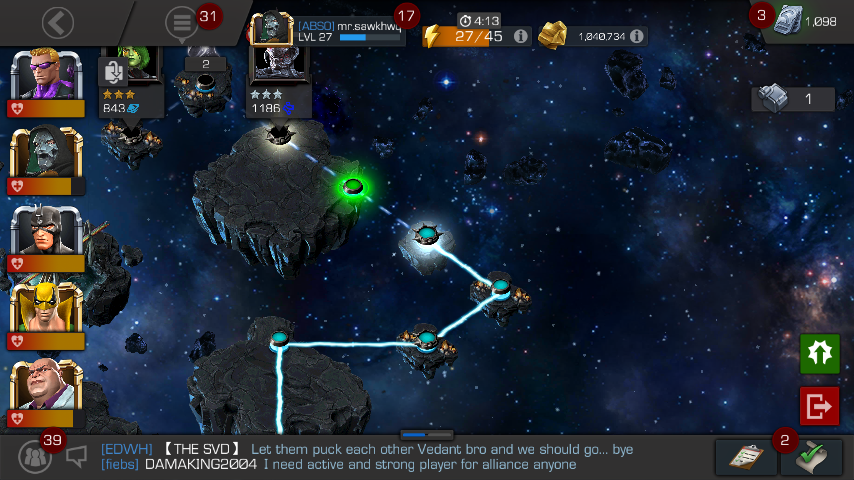green: (343, 179, 364, 194)
